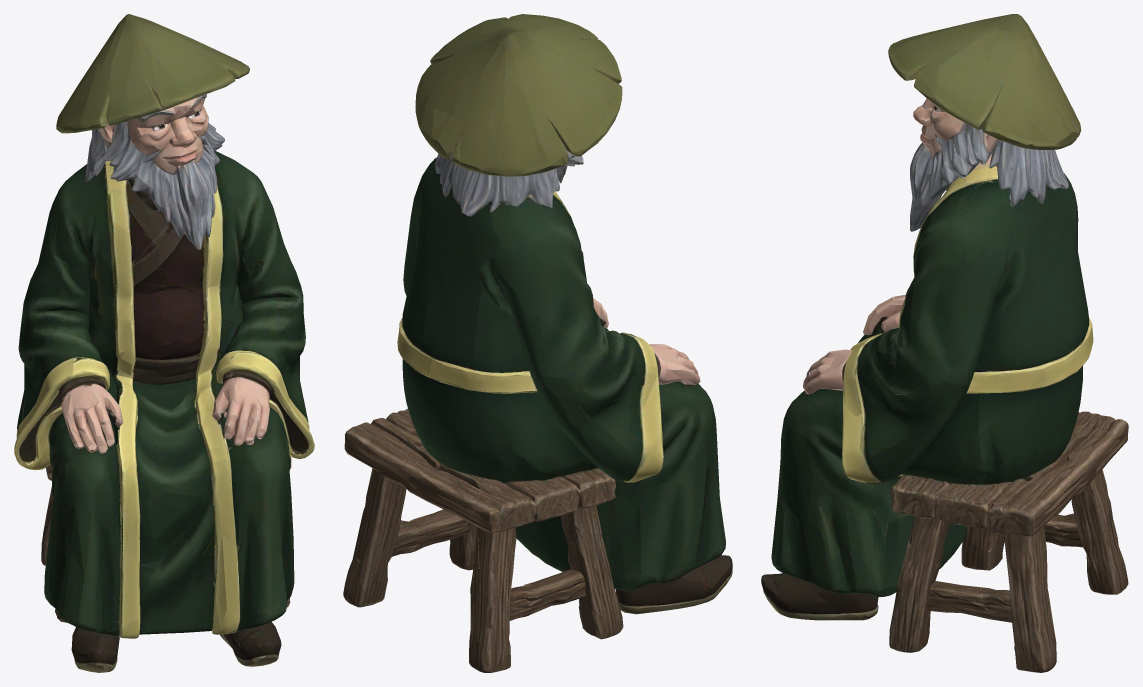
Rendered from irohek.glb.
The picture shows the model from 3 angles, left to right: view 1: azimuth 30°, elevation 25°; view 2: azimuth 150°, elevation 25°; view 3: azimuth 270°, elevation 25°; orthographic projection. The views are drawn at different scales.
Parts seen in each view (by area): view 1: Mesh_0; view 2: Mesh_0; view 3: Mesh_0.
Boxes of the visible parts, box(x1,y1,x2,y2) form: Mesh_0: box(14, 14, 314, 672); Mesh_0: box(343, 14, 732, 672); Mesh_0: box(761, 14, 1128, 672).
Size of the model in its own units: 1.01 by 1.9 by 1.08.
1 material, 1 textured.
